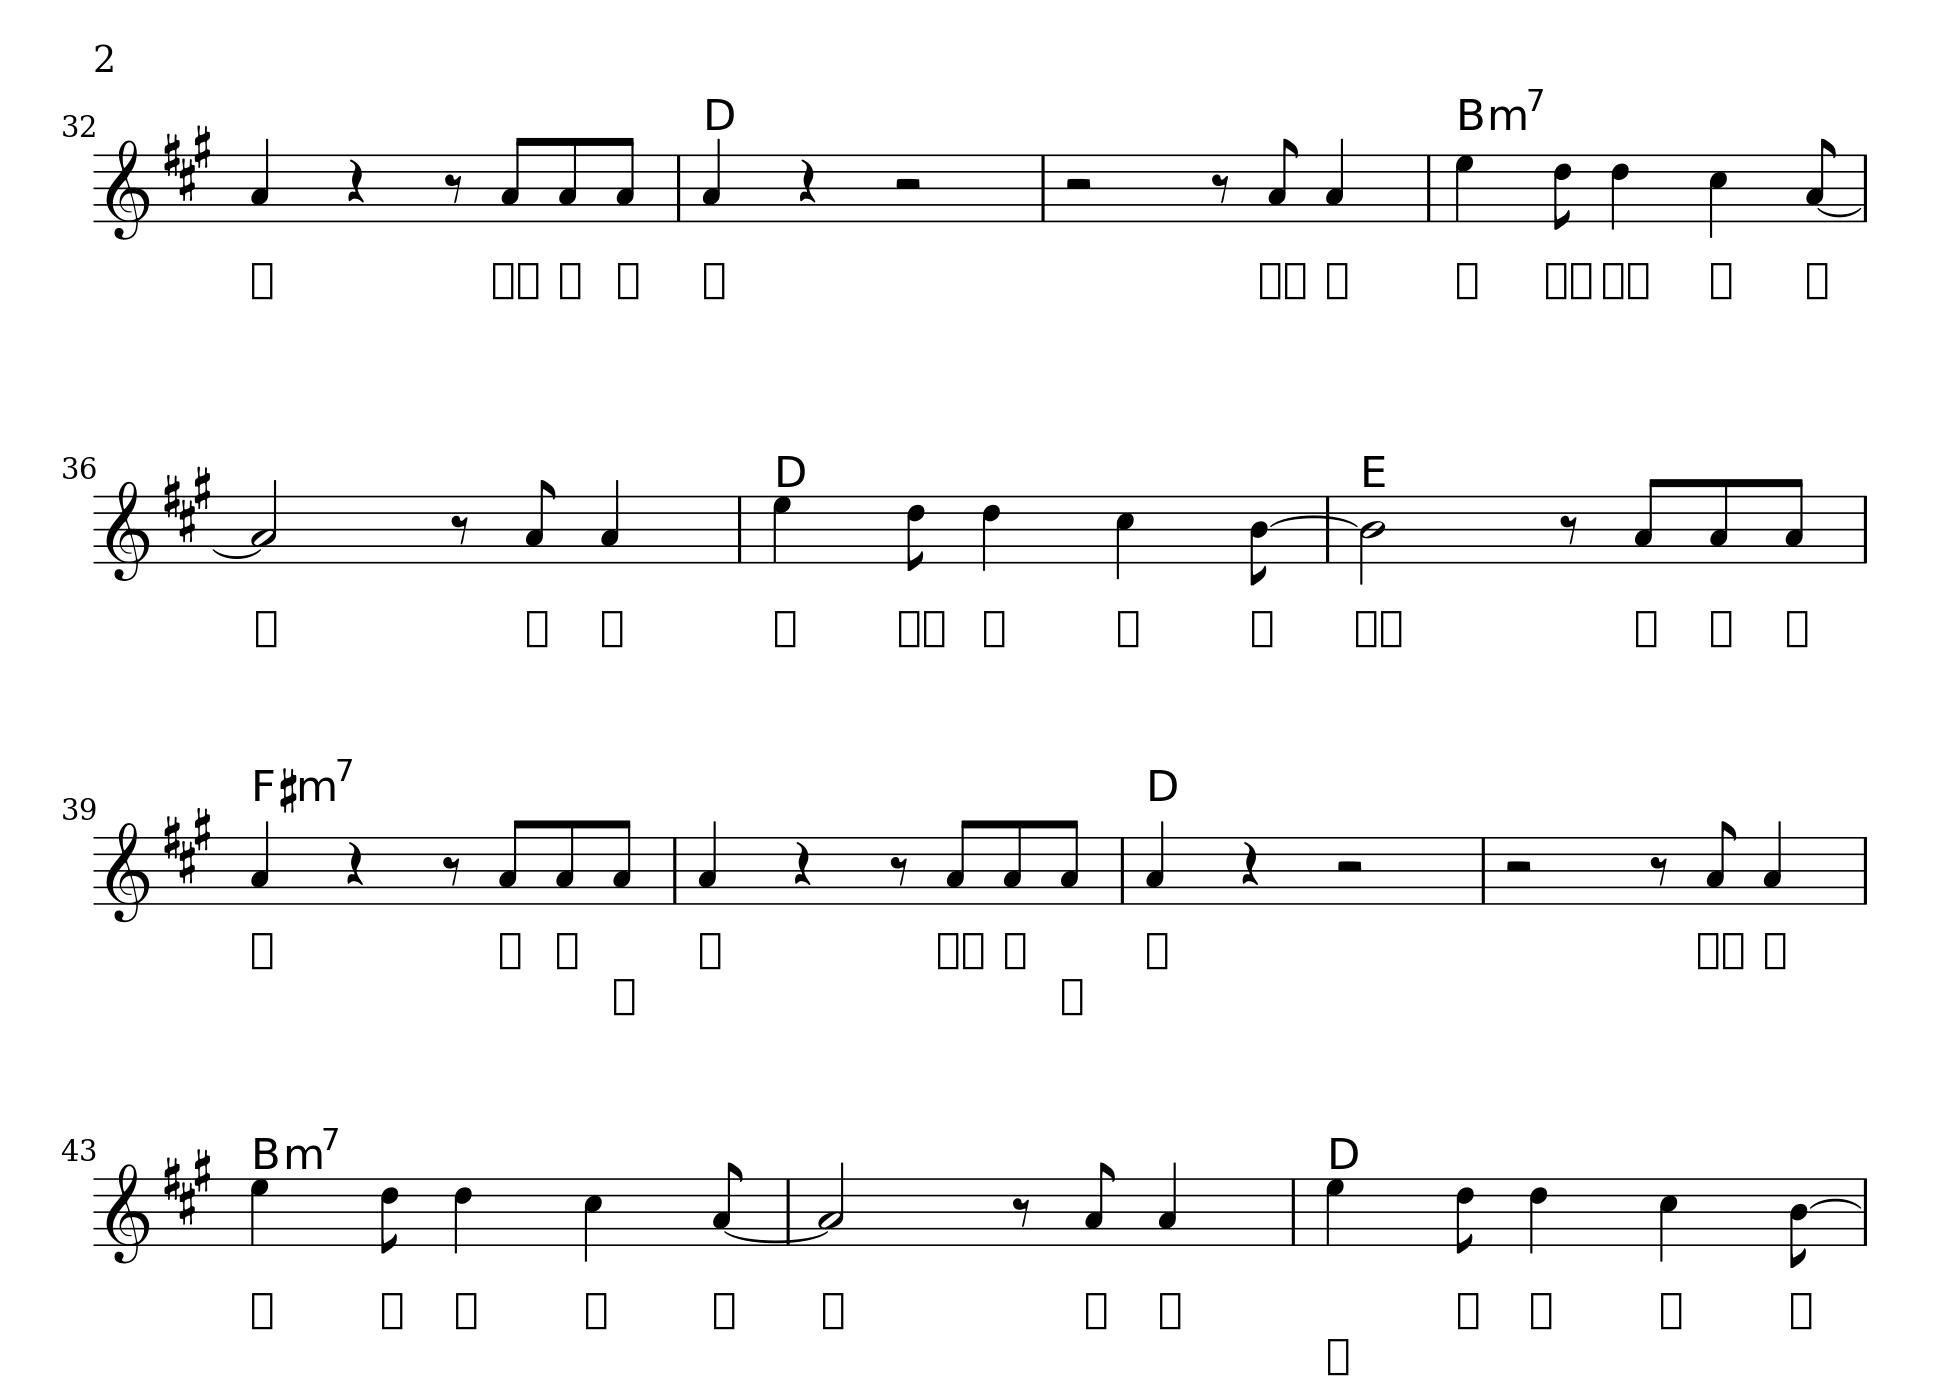2: (91, 40, 115, 73), (76, 112, 97, 139)
2_3: (250, 475, 280, 565), (820, 1159, 846, 1248)
2_4: (1359, 492, 1389, 583)
3: (60, 453, 78, 480), (60, 793, 78, 820), (79, 1135, 97, 1162), (60, 112, 76, 139)
4: (60, 1135, 79, 1162)
4_3: (250, 817, 274, 906), (1761, 817, 1785, 906), (600, 475, 622, 565), (250, 136, 273, 223), (1324, 136, 1347, 223), (1158, 1159, 1180, 1246), (697, 817, 718, 906), (702, 136, 723, 223), (1146, 817, 1167, 904)
4_5: (1113, 492, 1137, 582), (580, 1174, 604, 1264), (1656, 1174, 1680, 1264), (1707, 151, 1731, 240)
4_6: (1527, 1174, 1551, 1257), (1608, 151, 1630, 232), (451, 1174, 474, 1255), (981, 493, 1002, 574)
4_7: (769, 492, 796, 565), (1323, 1174, 1350, 1248), (1453, 151, 1476, 223), (249, 1176, 271, 1246)
6: (78, 454, 97, 481)
7: (1525, 84, 1545, 112), (334, 753, 352, 781), (321, 1123, 339, 1150)
8_3: (523, 477, 556, 565), (1266, 136, 1299, 223), (711, 1159, 744, 1246), (1806, 136, 1837, 223), (1705, 819, 1737, 906), (1084, 1159, 1116, 1246), (499, 135, 528, 223), (498, 817, 526, 906), (1635, 475, 1662, 564), (946, 817, 973, 906), (553, 817, 577, 906), (556, 135, 579, 223), (1002, 817, 1024, 906), (1059, 817, 1081, 906), (1710, 475, 1731, 565), (1785, 474, 1806, 564), (615, 135, 636, 223), (610, 817, 631, 906)
8_4: (1248, 493, 1272, 586), (1788, 1174, 1810, 1270)
8_6: (904, 492, 927, 574), (1551, 151, 1573, 232), (1455, 1174, 1477, 1255), (379, 1174, 400, 1255)
9: (78, 793, 97, 822)
A_S: (160, 124, 214, 204), (160, 466, 211, 543), (162, 1149, 211, 1227), (163, 808, 211, 885)
Gclef: (106, 478, 154, 582), (106, 136, 151, 241), (106, 819, 151, 924), (106, 1161, 150, 1264)
Rests2: (1332, 856, 1368, 877), (1503, 856, 1536, 877), (891, 175, 925, 193), (1062, 175, 1095, 193)
Rests4: (1239, 838, 1261, 886), (796, 157, 817, 205), (343, 838, 364, 886), (792, 838, 813, 886), (346, 156, 366, 205)
Rests8: (1209, 171, 1233, 205), (448, 511, 472, 546), (888, 853, 912, 888), (1648, 853, 1672, 888), (1011, 1194, 1035, 1228), (442, 171, 465, 205), (1558, 511, 1581, 544), (441, 853, 463, 886)
Single_barline: (1851, 493, 1881, 564), (1852, 835, 1879, 904), (1471, 835, 1497, 903), (1033, 153, 1056, 220), (730, 493, 751, 561), (1284, 1176, 1305, 1243), (1855, 1176, 1875, 1246), (778, 1176, 798, 1243), (1857, 151, 1875, 223), (1420, 154, 1438, 222), (670, 153, 687, 220), (1114, 835, 1131, 903), (666, 835, 682, 903), (1323, 493, 1335, 564), (1813, 1195, 1860, 1212)
Slur: (721, 1228, 829, 1242), (1270, 514, 1362, 526), (211, 547, 264, 558), (1816, 208, 1863, 217)
